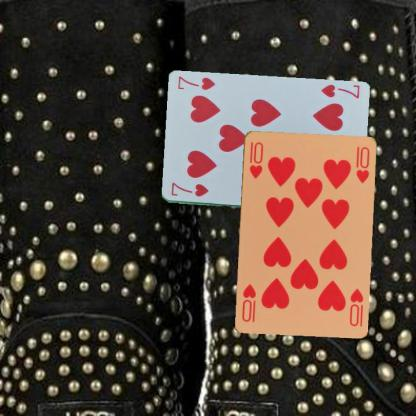10h: (246, 138, 264, 180), (346, 285, 364, 327)
7h: (318, 82, 361, 100), (169, 180, 209, 198)
